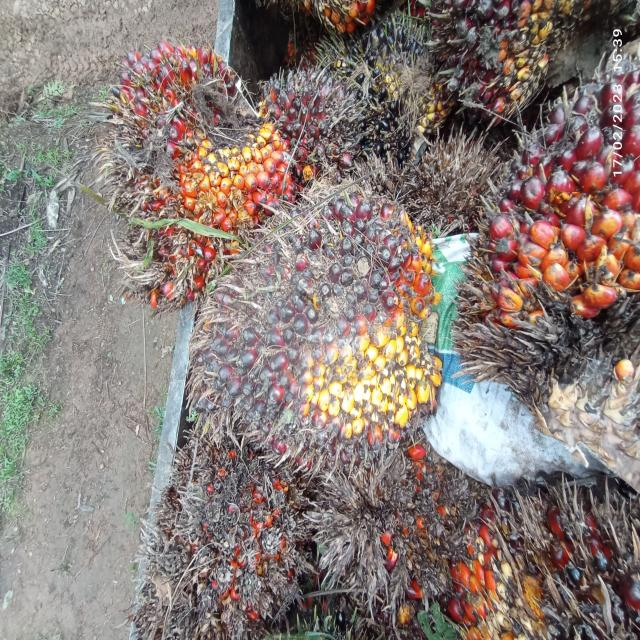fraksi 00: (186, 134, 447, 526)
fraksi 1: (469, 51, 640, 440)
fraksi 3: (91, 5, 299, 311)
fraksi 4: (349, 400, 526, 640), (146, 421, 328, 640)
